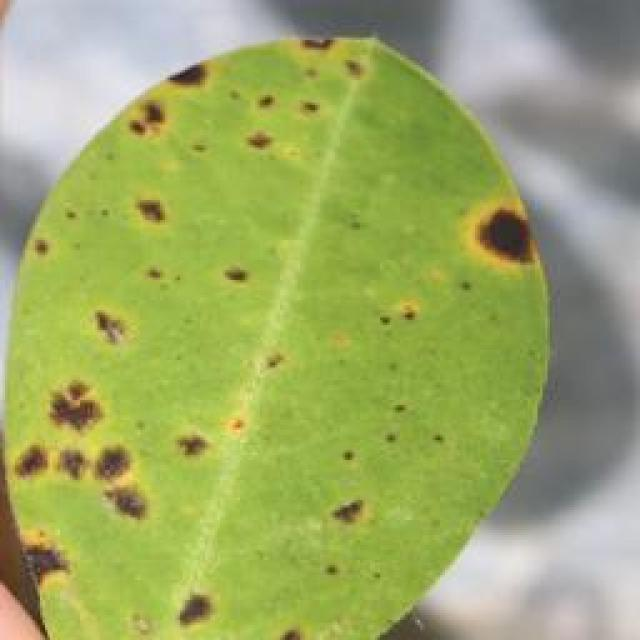Yellowish: (0, 40, 542, 640)
